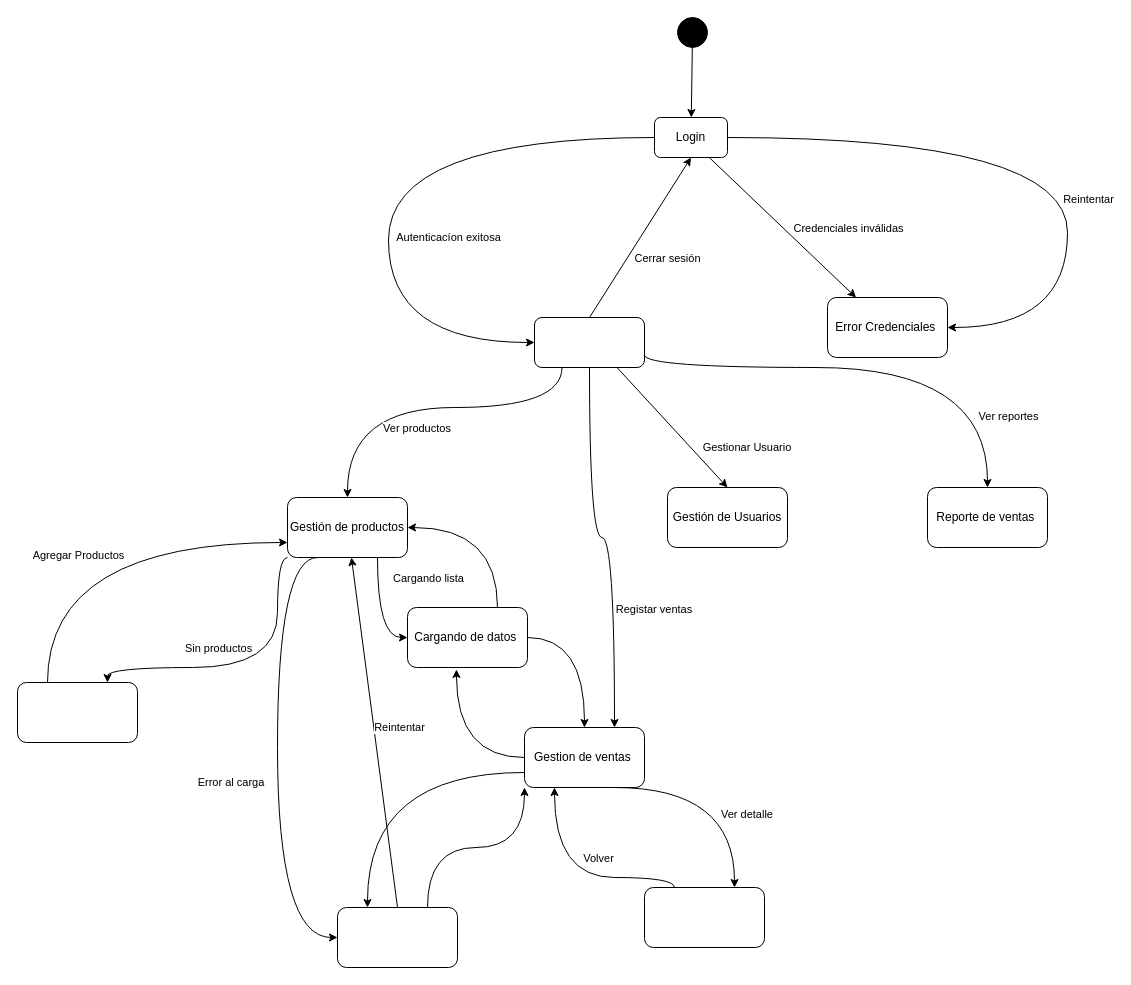
Image size: 1131x985. Some labels were removed from this diagram. Here are the shapes that lost their labels. From the top down, the centre of each, then its label:
At pixel 589 342: "Dashboard".
At pixel 77 712: "Sin datos".
At pixel 397 937: "Error de Conexión".
At pixel 704 917: "Detalle venta".
